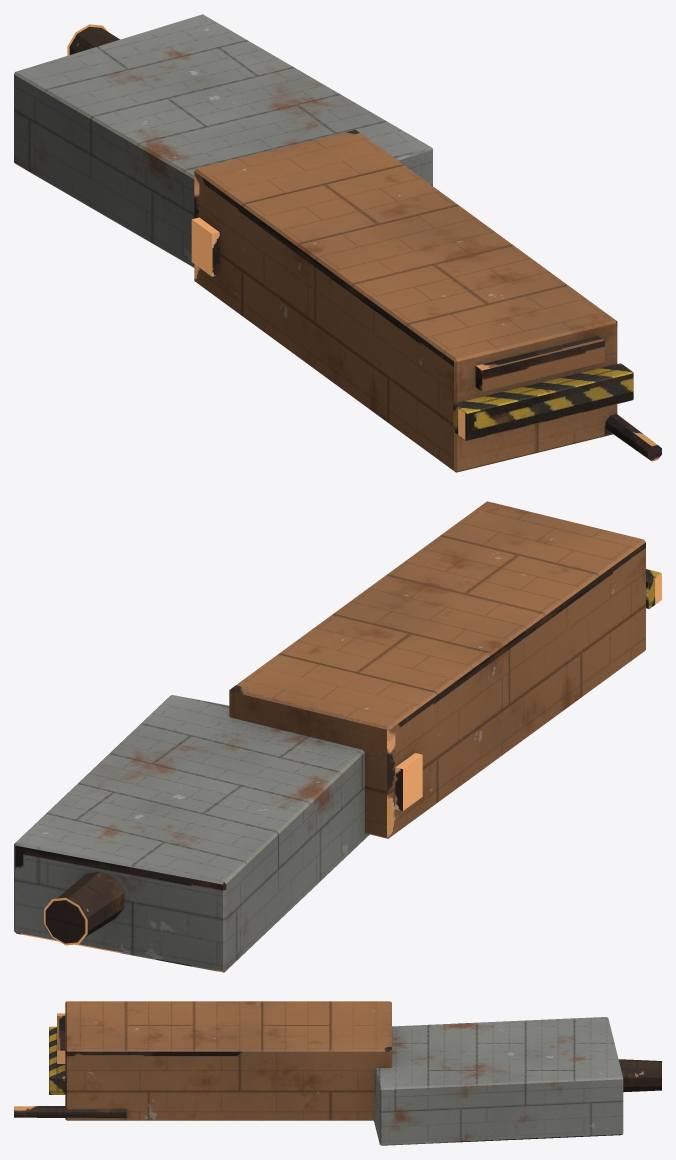
File: dustborn_craft.glb
The picture shows the model from 3 angles, top to bottom: view 1: azimuth 30°, elevation 25°; view 2: azimuth 150°, elevation 25°; view 3: azimuth 270°, elevation 25°; orthographic projection. The views are drawn at different scales.
Visible parts, largest first — view 1: HULL, SYS_REACTOR, SYS_WPN1, SYS_DRIVE; view 2: HULL, SYS_DRIVE, SYS_REACTOR; view 3: HULL, SYS_DRIVE, SYS_WPN1.
Boxes of the visible parts, left/top/right/bottom form: HULL: left=14, top=14, right=633, bottom=472; SYS_REACTOR: left=191, top=217, right=219, bottom=276; SYS_WPN1: left=605, top=414, right=661, bottom=461; SYS_DRIVE: left=67, top=24, right=119, bottom=55; HULL: left=14, top=501, right=661, bottom=972; SYS_DRIVE: left=44, top=872, right=123, bottom=945; SYS_REACTOR: left=395, top=753, right=422, bottom=811; HULL: left=49, top=1001, right=623, bottom=1145; SYS_DRIVE: left=618, top=1059, right=661, bottom=1092; SYS_WPN1: left=14, top=1106, right=126, bottom=1118.
Bounding box in the file's own units: 1.11 × 0.5386 × 4.19.
1 material, 1 textured.
